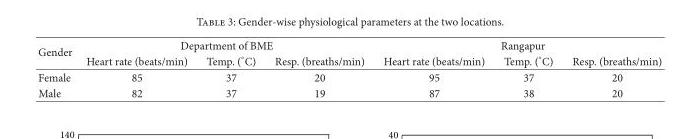table: (37, 37, 661, 100)
table column: (373, 37, 493, 100), (78, 37, 196, 100), (264, 37, 373, 100), (562, 37, 661, 100), (493, 37, 562, 100), (196, 37, 264, 100), (37, 37, 78, 100)
table column header: (37, 37, 661, 68)
table row: (37, 52, 661, 68), (37, 68, 661, 84), (37, 84, 661, 100), (37, 37, 661, 52)
table spanning cell: (78, 37, 373, 52), (373, 37, 661, 52), (37, 37, 78, 68)
